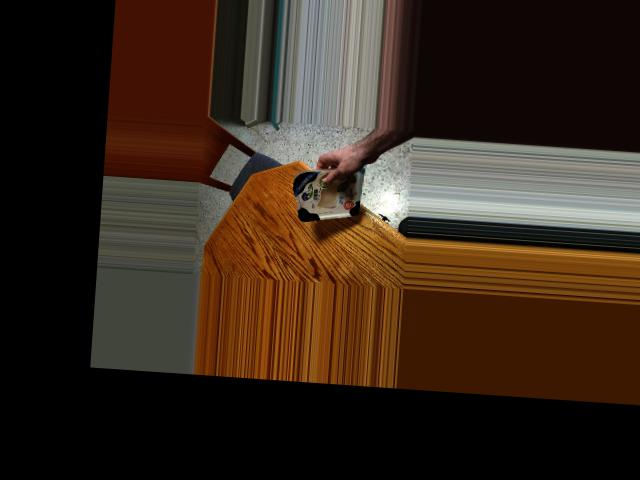cheese: (287, 165, 379, 224)
